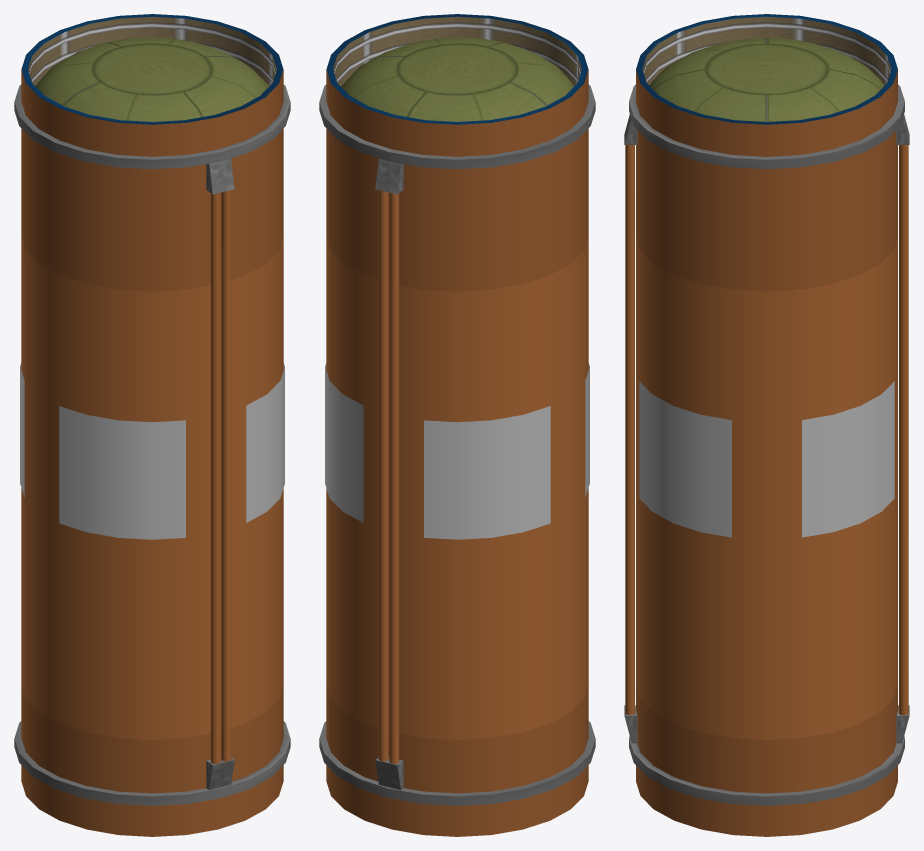
The model's file is FLM-14400M.FBX.
The picture shows the model from 3 angles, left to right: view 1: azimuth 30°, elevation 25°; view 2: azimuth 150°, elevation 25°; view 3: azimuth 270°, elevation 25°; orthographic projection.
Visible parts, largest first — view 1: TankBody, TankSleeve001, decalPanel004, EndCap001, TankSleeve002, FuelPipe001, FuelPipe002, decalPanel001, BarrelBand003, BarrelBand002, FuelPlug001, FuelPlug002 (+1 smaller); view 2: TankBody, TankSleeve001, decalPanel003, EndCap001, TankSleeve002, FuelPipe003, FuelPipe004, decalPanel002, BarrelBand003, BarrelBand002, FuelPlug004, FuelPlug003 (+1 smaller); view 3: TankBody, TankSleeve001, EndCap001, decalPanel001, decalPanel002, TankSleeve002, FuelPipe004, FuelPipe002, BarrelBand003, BarrelBand002.
Boxes of the visible parts, x1,y1,x2,y2 form: TankBody: [21, 128, 283, 793]; TankSleeve001: [21, 14, 283, 156]; decalPanel004: [59, 406, 185, 539]; EndCap001: [35, 37, 269, 121]; TankSleeve002: [21, 765, 283, 836]; FuelPipe001: [210, 192, 220, 763]; FuelPipe002: [221, 190, 231, 761]; decalPanel001: [246, 363, 284, 522]; BarrelBand003: [14, 84, 290, 169]; BarrelBand002: [14, 721, 290, 805]; FuelPlug001: [206, 158, 234, 194]; FuelPlug002: [206, 757, 234, 790]; TankBody: [326, 128, 588, 793]; TankSleeve001: [326, 14, 588, 156]; decalPanel003: [424, 406, 550, 539]; EndCap001: [340, 37, 574, 121]; TankSleeve002: [326, 765, 588, 836]; FuelPipe003: [389, 192, 399, 763]; FuelPipe004: [378, 190, 388, 761]; decalPanel002: [325, 363, 363, 522]; BarrelBand003: [319, 84, 595, 169]; BarrelBand002: [319, 721, 595, 805]; FuelPlug004: [375, 158, 403, 194]; FuelPlug003: [375, 757, 403, 790]; TankBody: [636, 130, 897, 793]; TankSleeve001: [636, 14, 897, 156]; EndCap001: [649, 38, 884, 121]; decalPanel001: [639, 381, 731, 537]; decalPanel002: [802, 381, 894, 537]; TankSleeve002: [636, 765, 897, 836]; FuelPipe004: [899, 145, 908, 715]; FuelPipe002: [625, 145, 634, 715]; BarrelBand003: [629, 84, 904, 169]; BarrelBand002: [629, 736, 904, 805].
Size of what is drawn, in the model's own units: 2.63 by 2.72 by 7.49.
